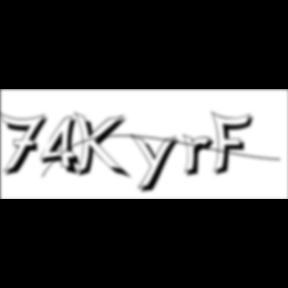4: (40, 115, 86, 179)
7: (0, 111, 54, 179)
F: (211, 110, 259, 178)
K: (74, 110, 134, 182)
r: (183, 134, 221, 180)
y: (131, 132, 185, 196)
